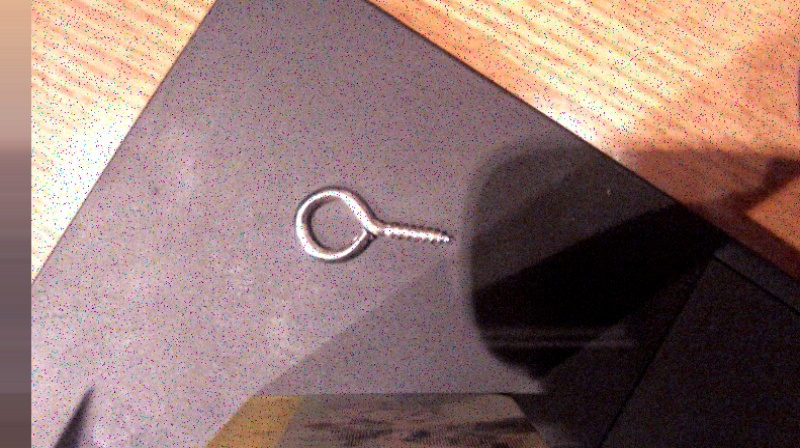O001: (291, 180, 455, 269)
